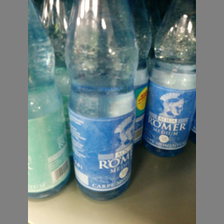water: (64, 1, 140, 201), (28, 1, 71, 200), (145, 1, 195, 155)
